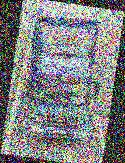truck: (18, 0, 112, 146)
